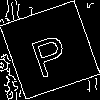P: (24, 25, 72, 79)
